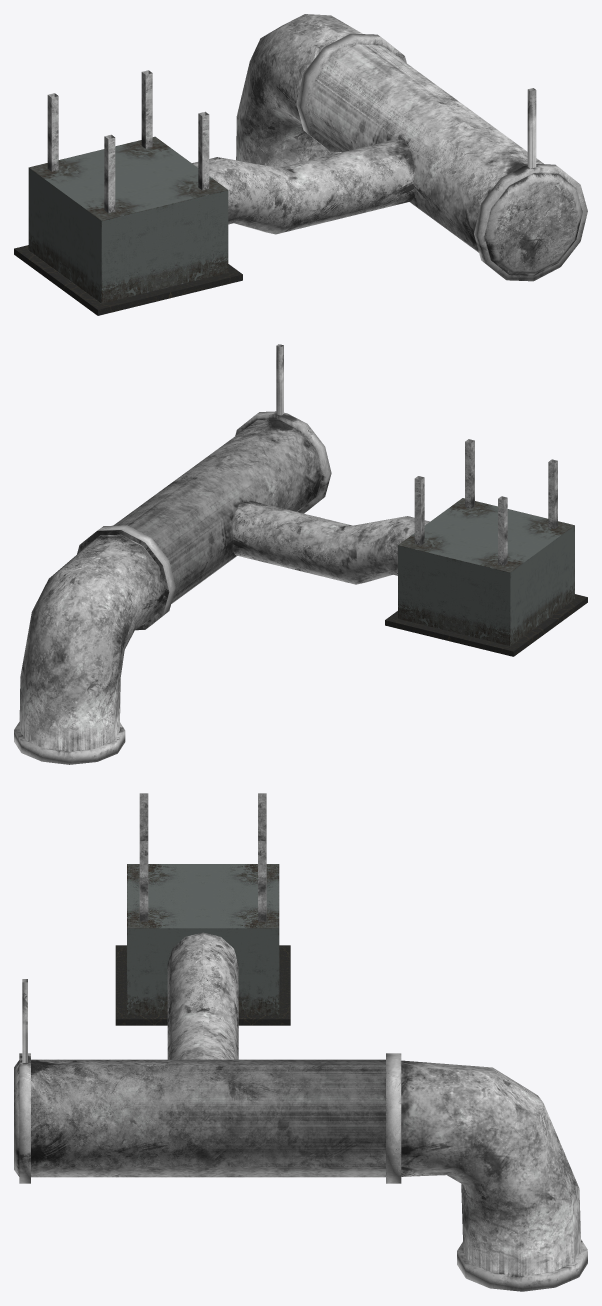
File: air_conditioning_pipes.glb
3 views of the same model, one above another, from view 1: azimuth 30°, elevation 25°; view 2: azimuth 150°, elevation 25°; view 3: azimuth 270°, elevation 25° (orthographic). The views are drawn at different scales.
Visible parts, largest first — view 1: body, pipeStraight, pipeConditioner, pipeAngle, mounting; view 2: body, pipeAngle, pipeStraight, pipeConditioner, mounting; view 3: pipeStraight, pipeAngle, body, pipeConditioner, mounting.
Boxes of the visible parts, x1,y1,x2,y2 form: body: (14,70,242,315); pipeStraight: (296,33,582,275); pipeConditioner: (192,139,414,234); pipeAngle: (236,14,362,167); mounting: (474,88,587,281); body: (385,439,587,656); pipeAngle: (14,534,164,764); pipeStraight: (77,419,322,630); pipeConditioner: (232,500,429,584); mounting: (235,344,331,513); pipeStraight: (14,1053,401,1183); pipeAngle: (401,1060,587,1291); body: (115,793,290,1025); pipeConditioner: (167,932,238,1059); mounting: (19,979,30,1183).
Bounding box in the file's own units: 1.86 × 1.09 × 2.
1 material, 1 textured.
